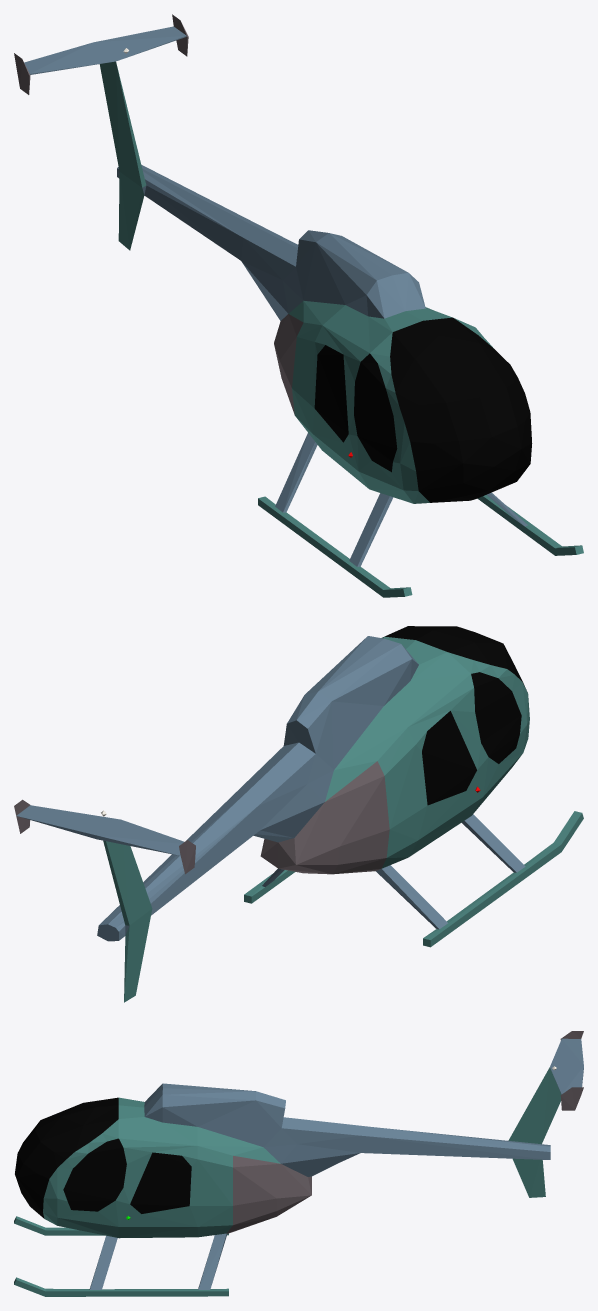
File: HUGH500.glb
The picture shows the model from 3 angles, top to bottom: view 1: azimuth 30°, elevation 25°; view 2: azimuth 150°, elevation 25°; view 3: azimuth 270°, elevation 25°; orthographic projection. The views are drawn at different scales.
Visible parts, largest first — view 1: HUGH500 | archived geometry; view 2: HUGH500 | archived geometry; view 3: HUGH500 | archived geometry.
Part boxes in pixels (x1,y1,x2,y2): HUGH500 | archived geometry: [14, 14, 583, 597]; HUGH500 | archived geometry: [14, 626, 583, 1002]; HUGH500 | archived geometry: [14, 1031, 583, 1296].
Size of the model in its own units: 2.02 by 2.94 by 7.55.
